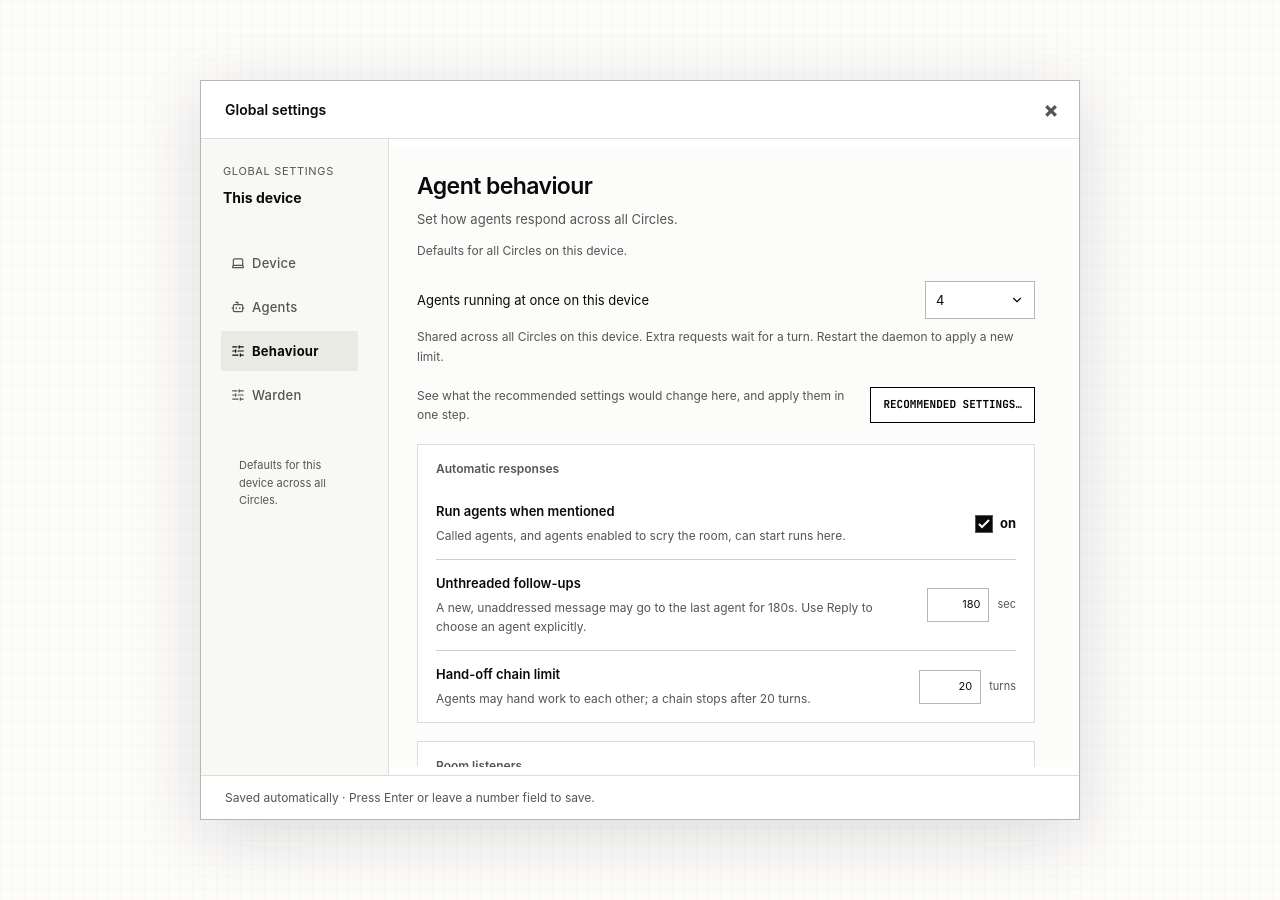
Test: settings recovery › shows identity failures and can recover
This screenshot has width=1280, height=900.
Click the tab "Device".
click(290, 263)  # box [221, 243, 358, 283]
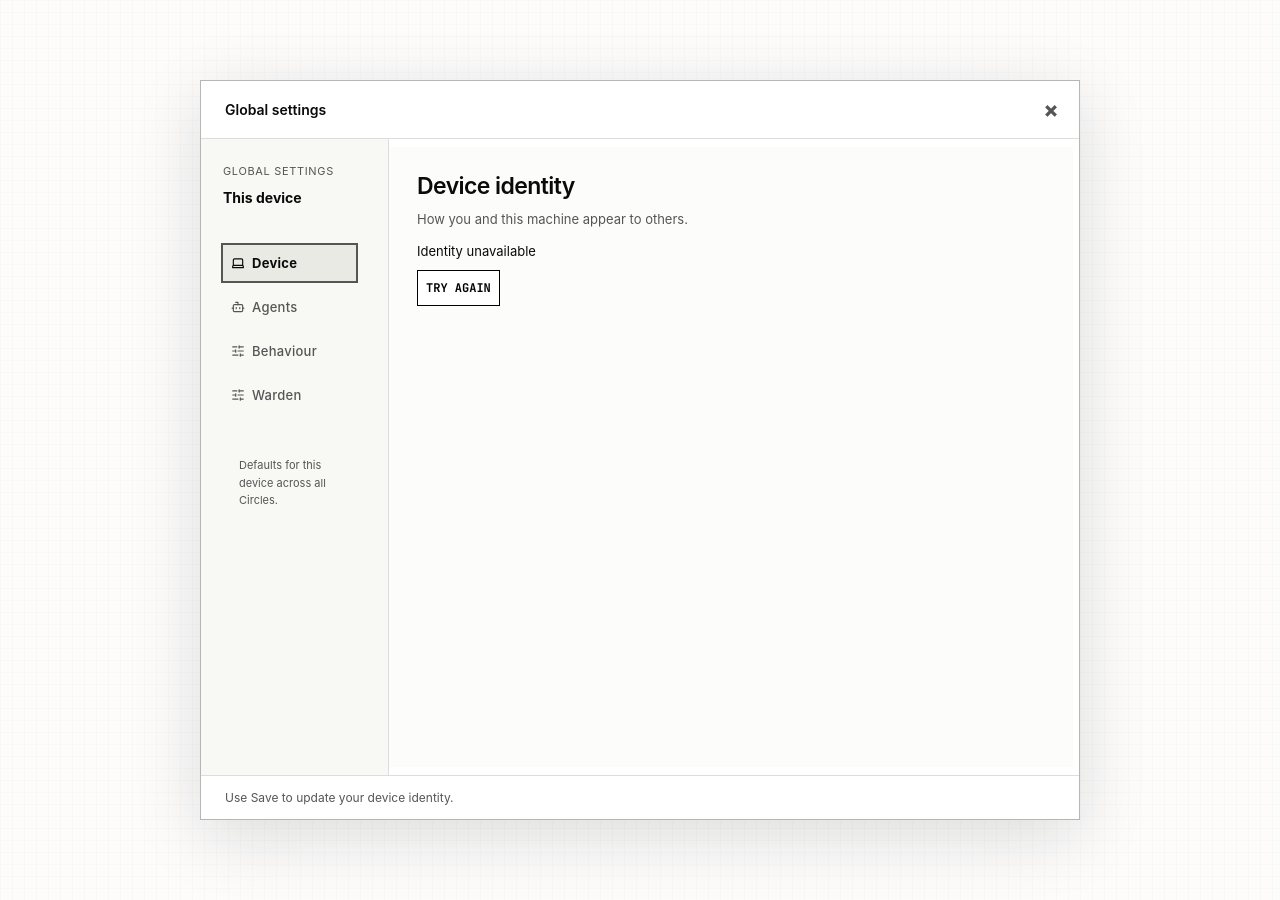
expect the message "Identity unavailable TRY AGAIN" is shown: met, box [417, 243, 536, 306]
Click the button "TRY AGAIN".
click(458, 288)  # box [417, 270, 500, 306]
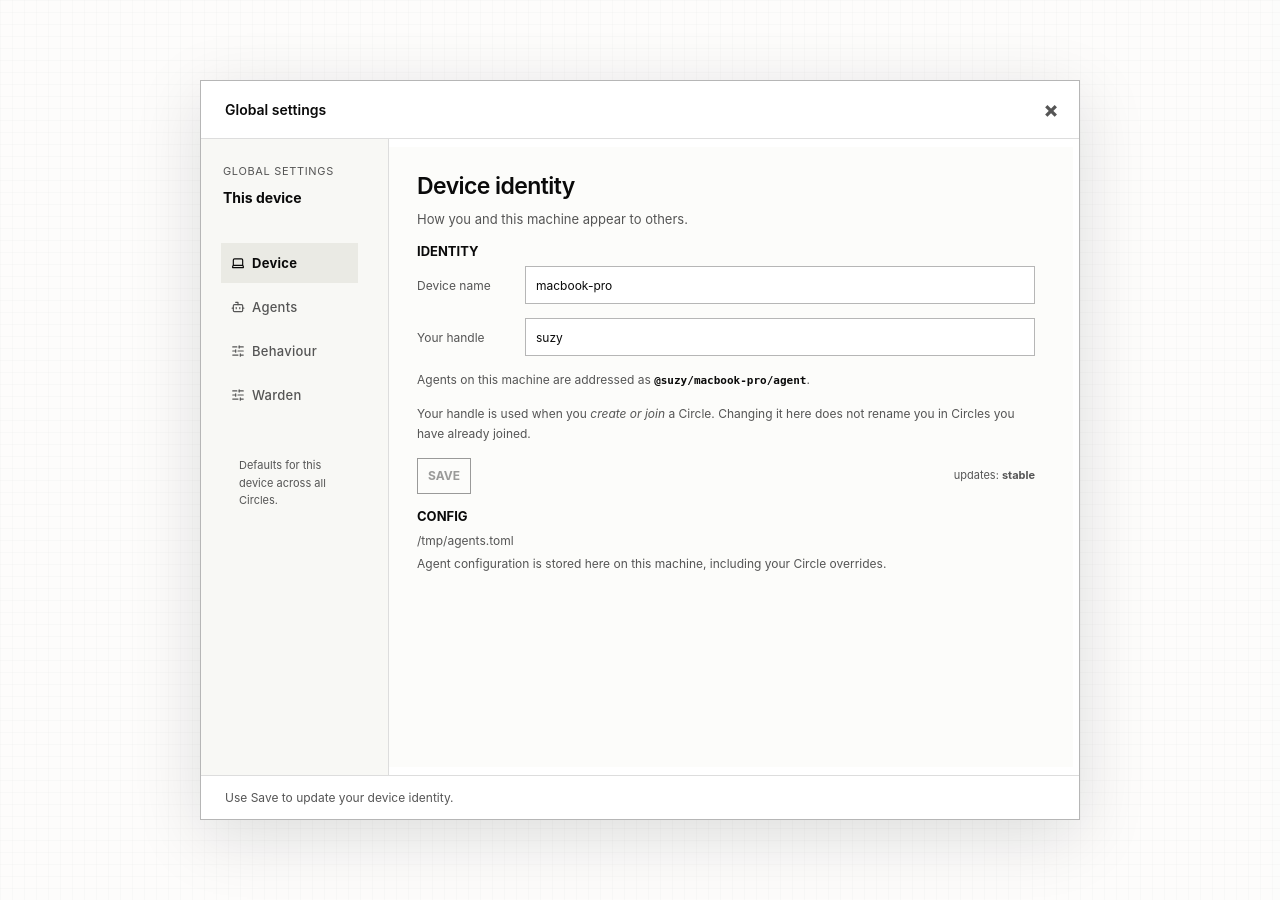
expect the field labelled "Device name" holds "macbook-pro": met, box [525, 266, 1035, 304]
